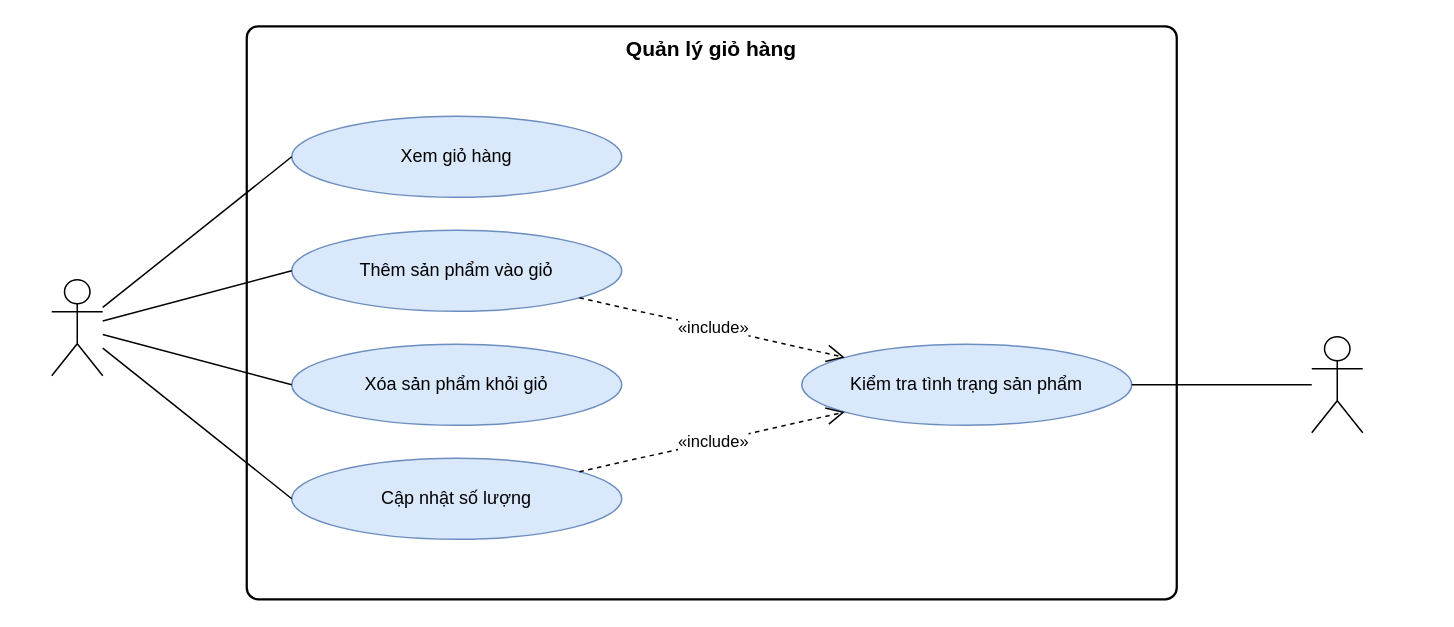
Some shapes in this 1454 by 627 pixel diagram are drawn without their labels. The shapes that lost their labels are listed below. From the top down, each one's centre as x and y in pixels, then its label:
pixel 76 327: Khách hàng
pixel 1336 384: HT quản lý sản phẩm
